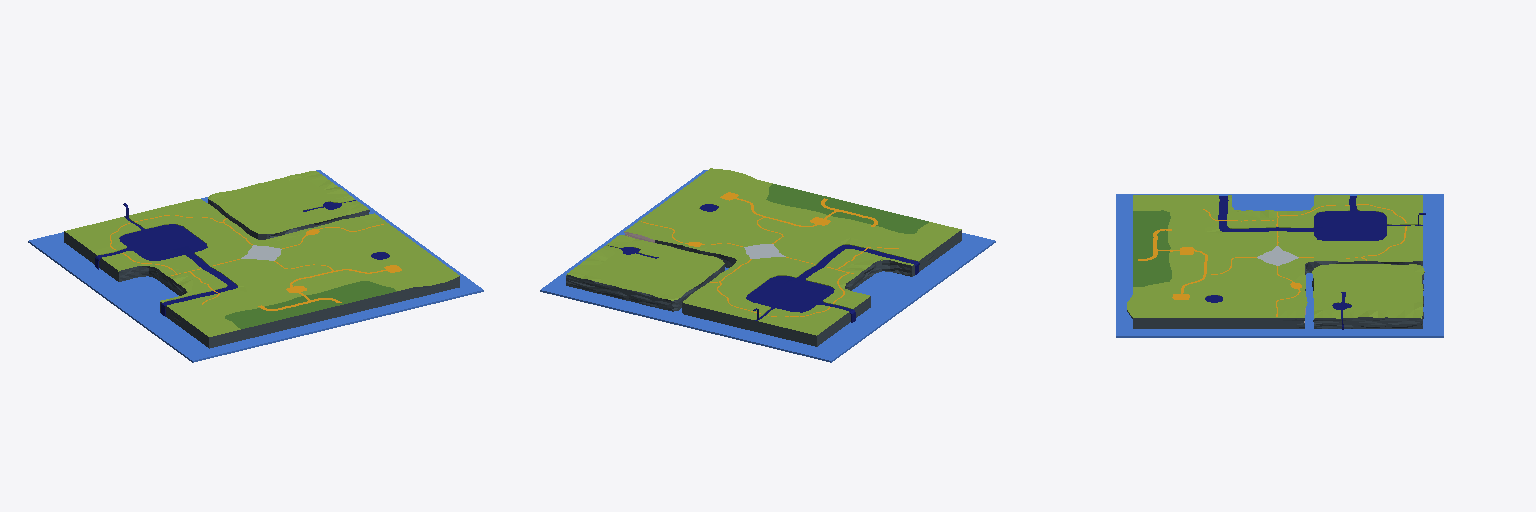
3 renders of one model, left to right at view 1: azimuth 30°, elevation 25°; view 2: azimuth 150°, elevation 25°; view 3: azimuth 270°, elevation 25°, orthographic.
Visible parts, largest first — view 1: Ground, Water-1.001, Path; view 2: Ground, Water-1.001, Path; view 3: Ground, Water-1.001, Path.
Part boxes in pixels (x1,y1,x2,y2): Ground: (64, 171, 459, 348); Water-1.001: (28, 170, 483, 362); Path: (110, 215, 401, 310); Ground: (566, 168, 961, 346); Water-1.001: (540, 170, 995, 362); Path: (641, 192, 898, 316); Ground: (1127, 195, 1425, 329); Water-1.001: (1116, 194, 1443, 337); Path: (1138, 204, 1406, 316).
Bounding box in the file's own units: 493 × 43.45 × 482.
1 materials, 1 textured.